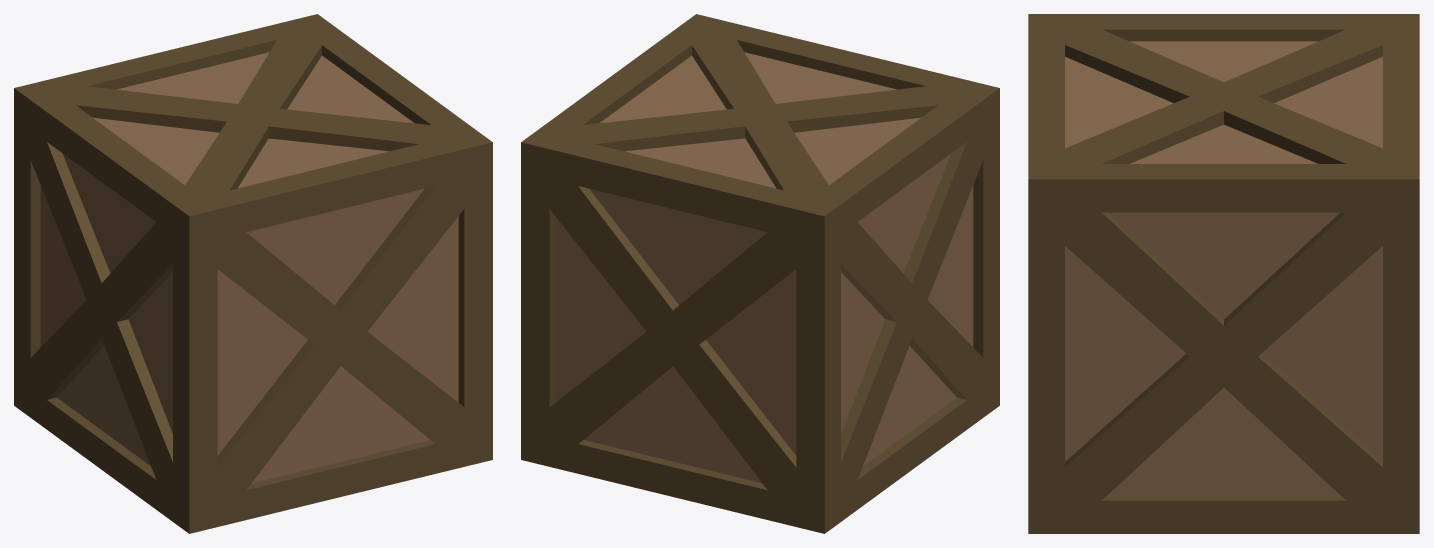
The model's file is crate.fbx.
The picture shows the model from 3 angles, left to right: view 1: azimuth 30°, elevation 25°; view 2: azimuth 150°, elevation 25°; view 3: azimuth 270°, elevation 25°; orthographic projection. The views are drawn at different scales.
Visible parts, largest first — view 1: crate; view 2: crate; view 3: crate.
Boxes of the visible parts, x1,y1,x2,y2 form: crate: [14, 14, 492, 533]; crate: [521, 14, 999, 533]; crate: [1028, 14, 1419, 533].
Size of the model in its own units: 4.38 by 4.38 by 4.38.
